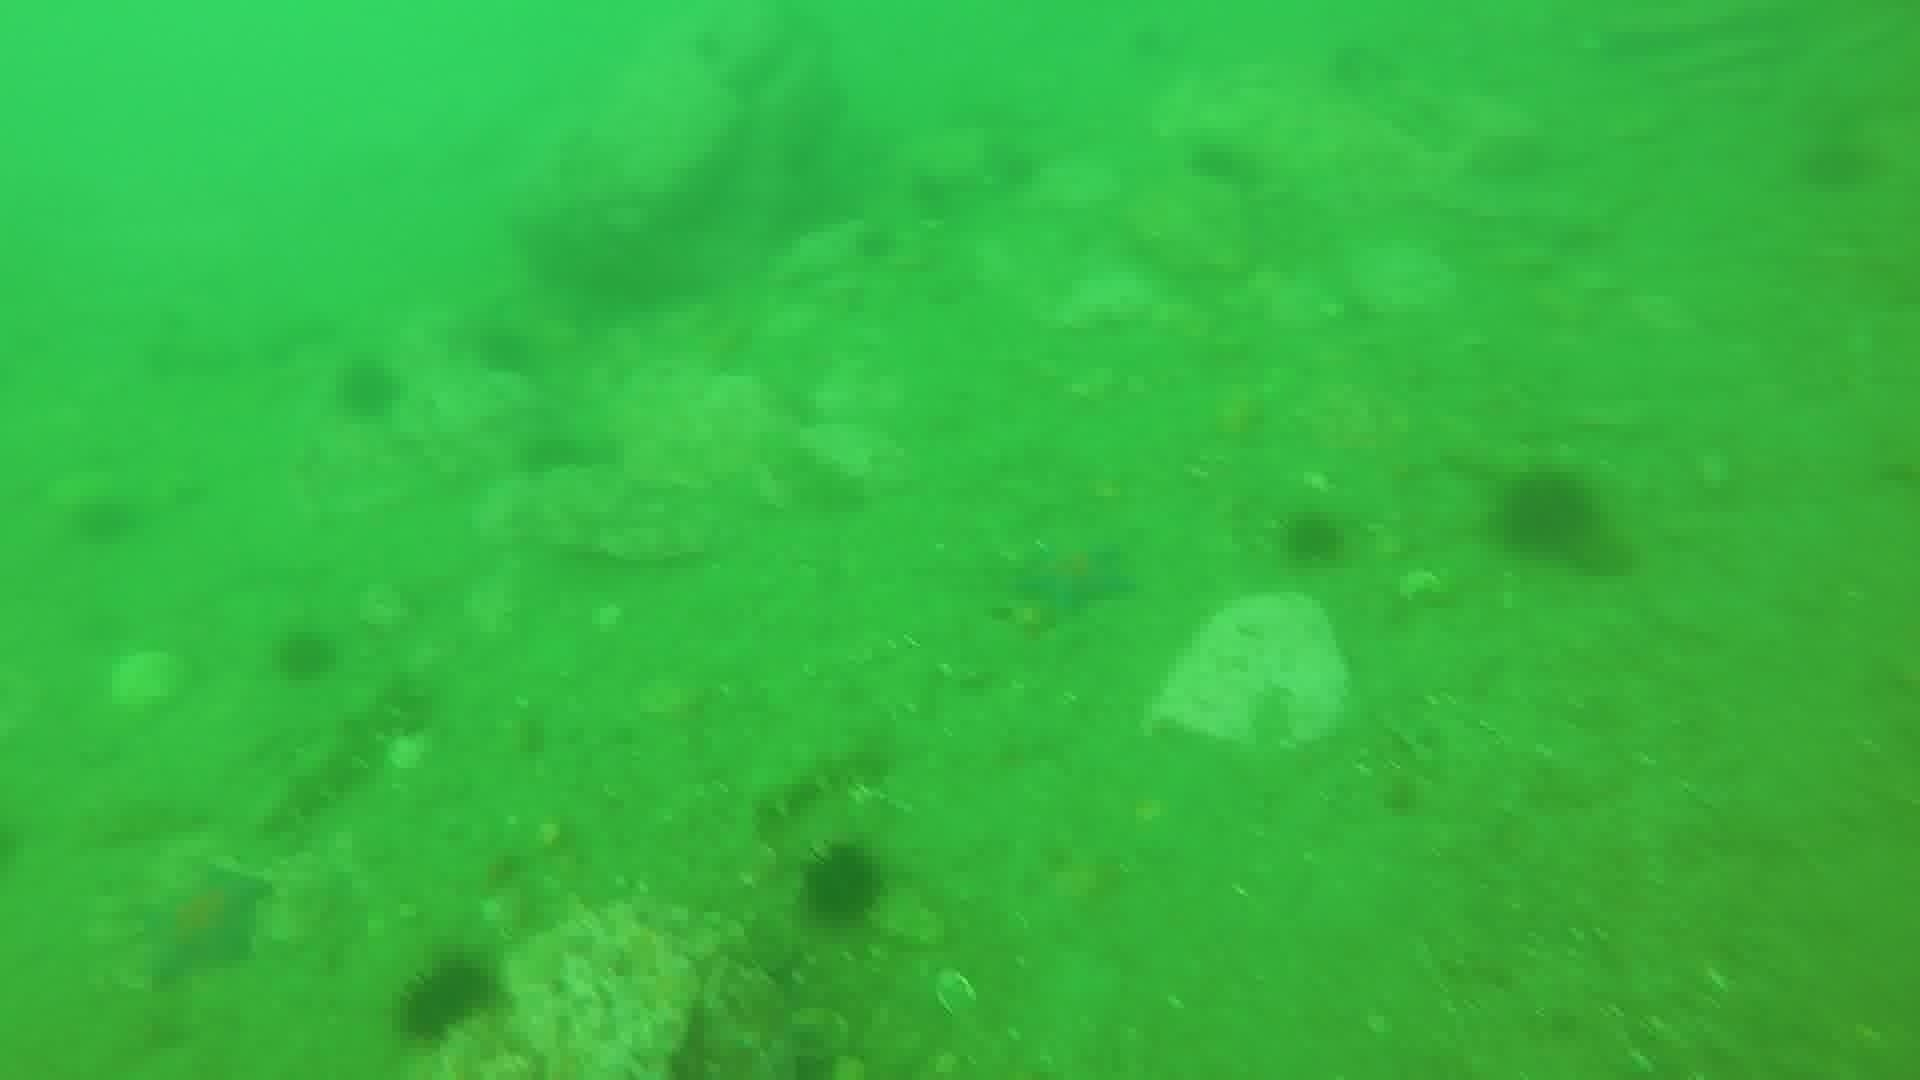echinus: (1493, 465, 1604, 564), (392, 952, 502, 1048), (795, 840, 889, 931), (1793, 132, 1879, 198), (330, 353, 406, 423), (1275, 506, 1352, 572), (269, 624, 342, 688), (469, 320, 541, 382), (837, 220, 909, 282), (69, 491, 142, 550), (886, 160, 956, 222), (998, 148, 1068, 210), (1180, 128, 1250, 190), (1478, 116, 1548, 178)
holothurian: (257, 673, 426, 833), (746, 735, 895, 824)
starfish: (131, 860, 273, 988), (1007, 534, 1139, 622)
